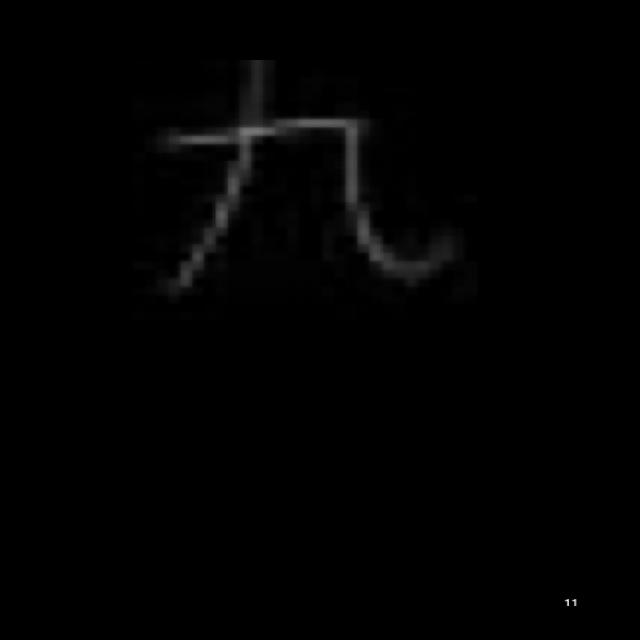9 -nine-: (170, 65, 414, 302)
